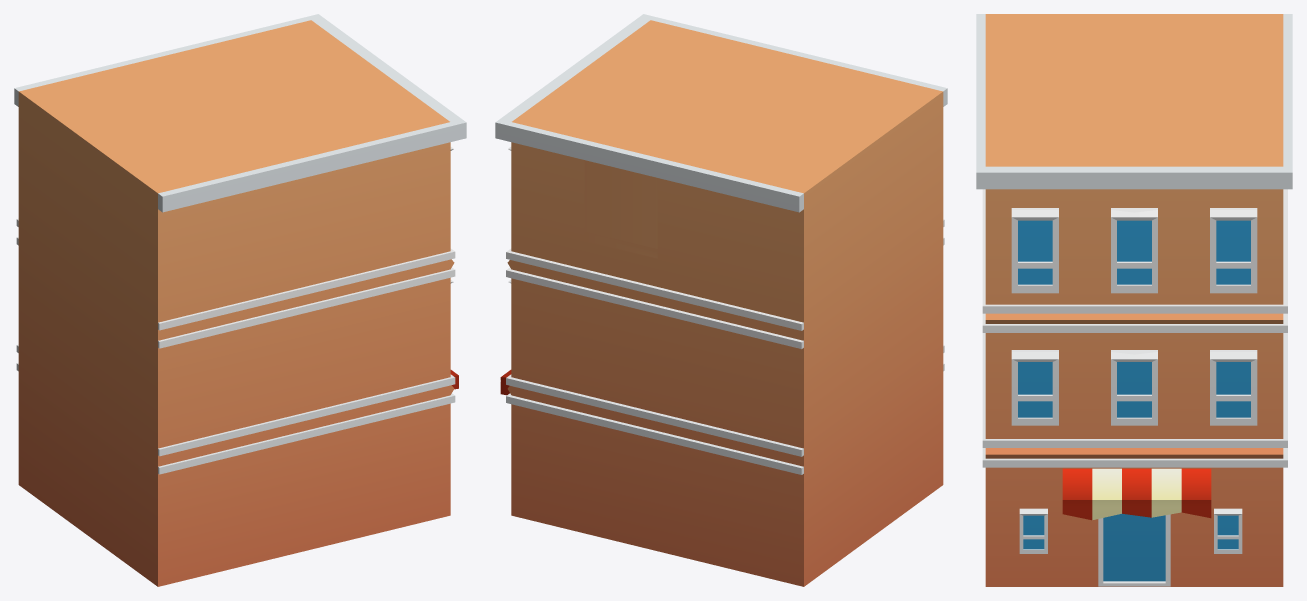
Rendered from Edificio1.fbx.
3 views of the same model, side by side, from view 1: azimuth 30°, elevation 25°; view 2: azimuth 150°, elevation 25°; view 3: azimuth 270°, elevation 25° (orthographic). The views are drawn at different scales.
Visible parts, largest first — view 1: Cube.002; view 2: Cube.002; view 3: Cube.002, Cube.003.
Part boxes in pixels (bbox=[...]): Cube.002: bbox=[14, 14, 466, 586]; Cube.002: bbox=[495, 14, 947, 586]; Cube.002: bbox=[976, 14, 1292, 586]; Cube.003: bbox=[1062, 468, 1211, 520].
Size of the model in its own units: 559 by 624 by 426.
2 materials, 2 textured.
